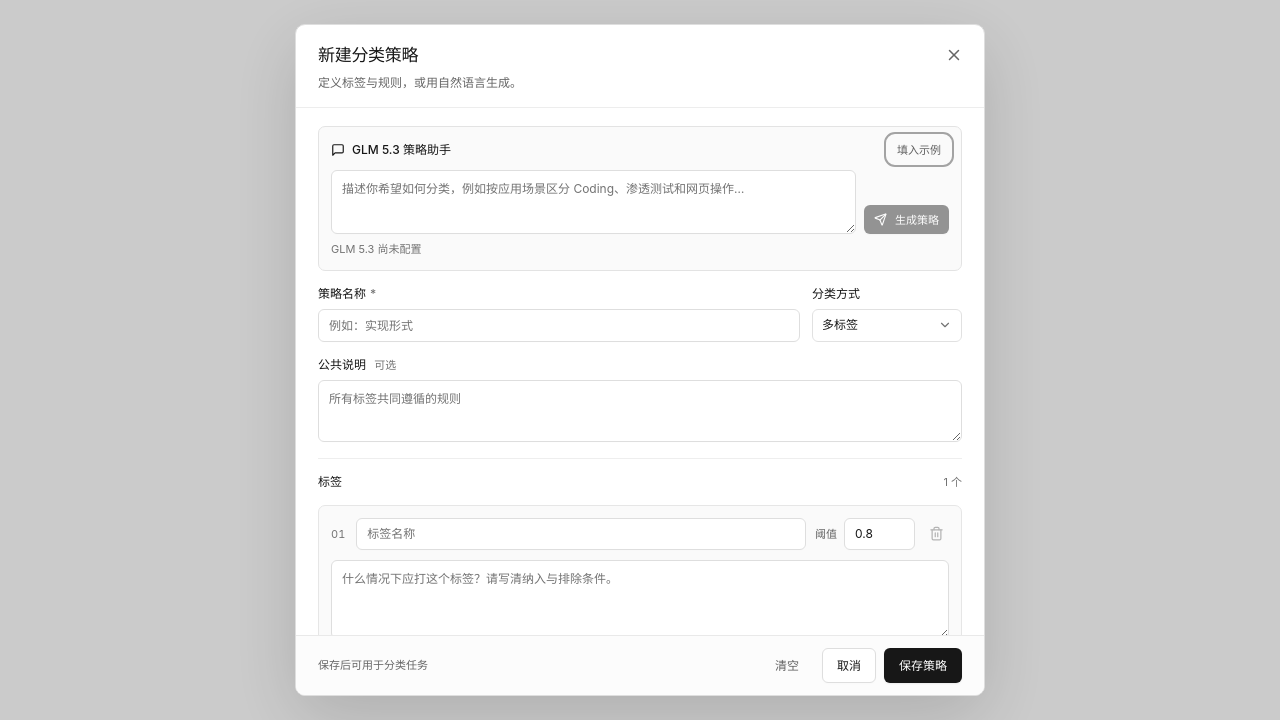
Test case: 策略编辑 › 没有模板入口，清空只重置当前草稿
Step 1. Type "自定义策略" into the field labelled "策略名称*" → (559, 325), box [318,309,800,342]
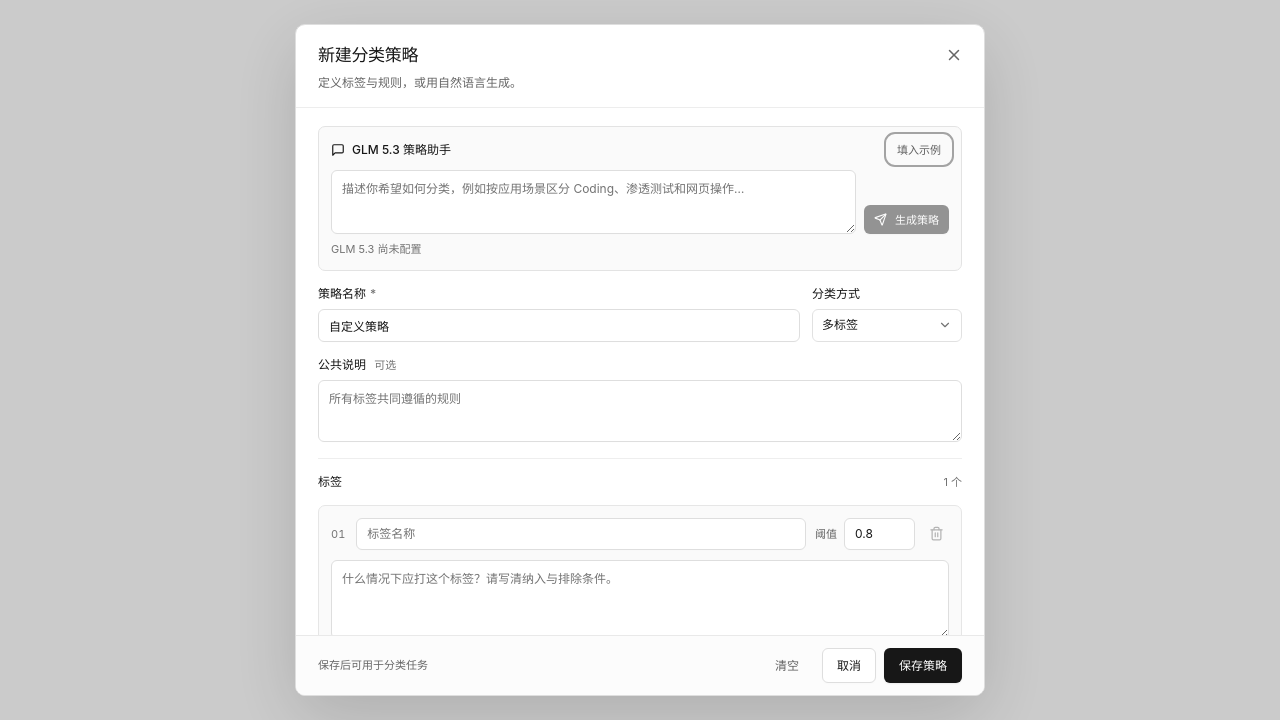
Step 2. Type "自定义标签" into the field named "标签 1 名称" → (581, 534), box [356,518,806,550]
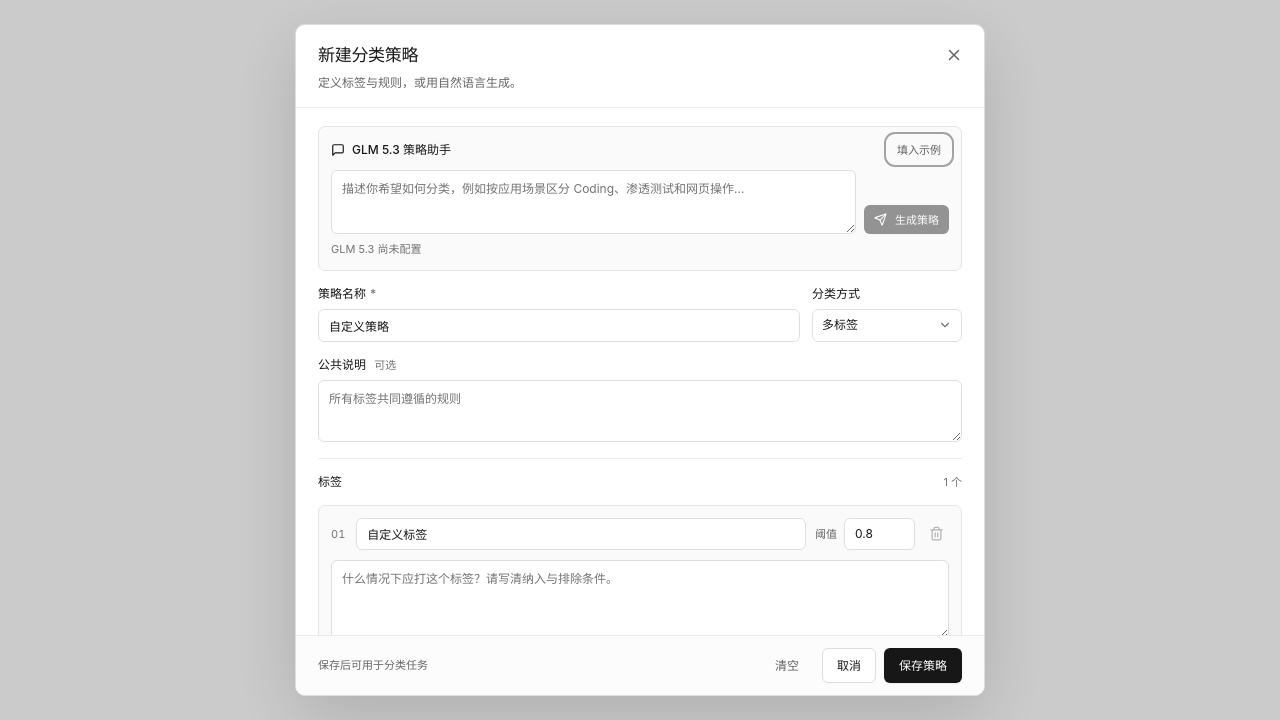
Step 3. Click the button "清空" → (787, 666), box [760,648,814,683]
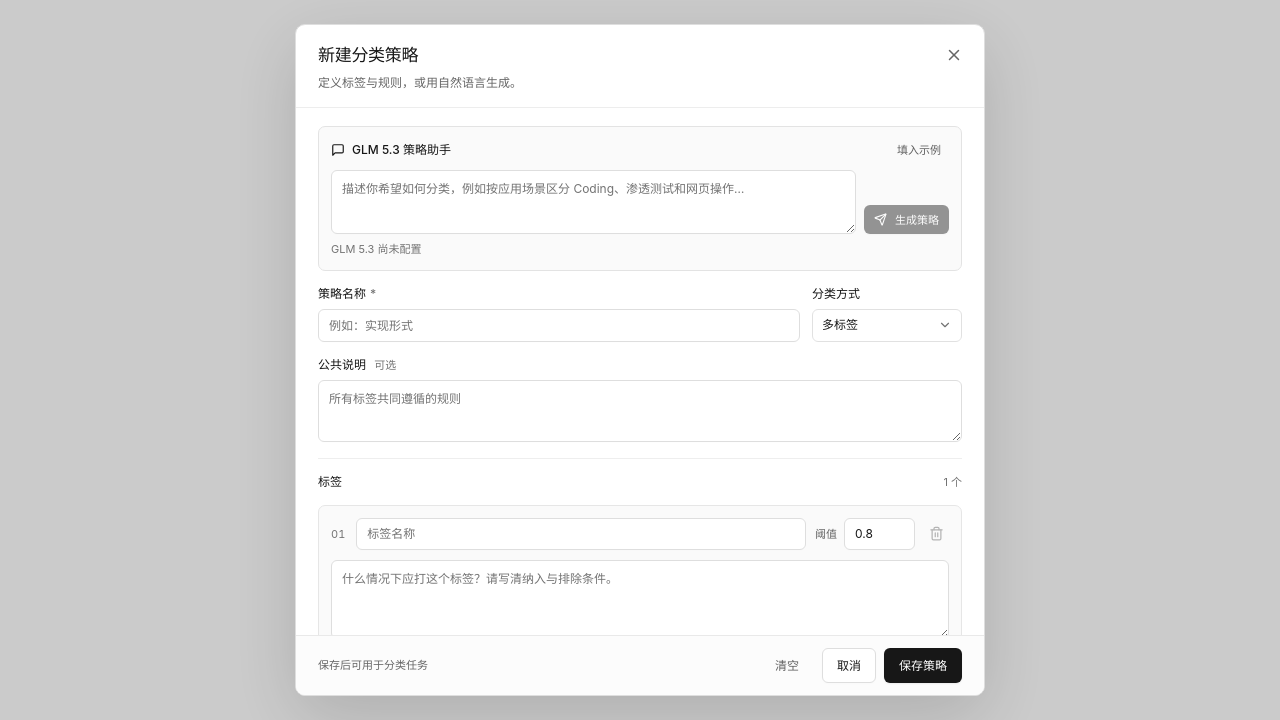
Check: the field labelled "策略名称*" is empty, box [318,309,800,342]
Check: the field named "标签 1 名称" is empty, box [356,518,806,550]
